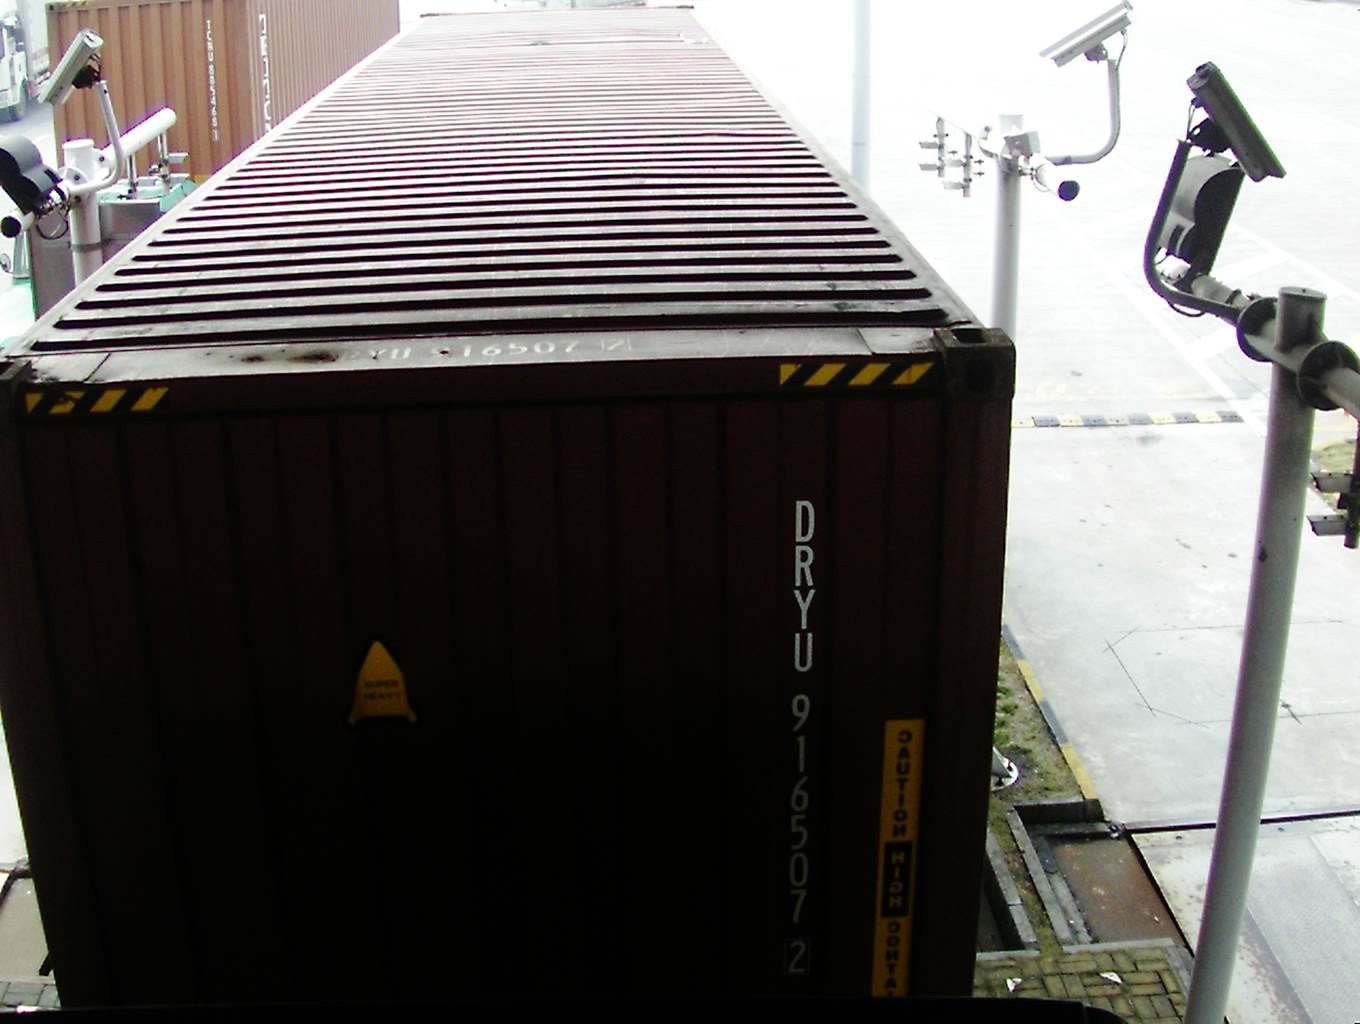words: (771, 488, 829, 983)
